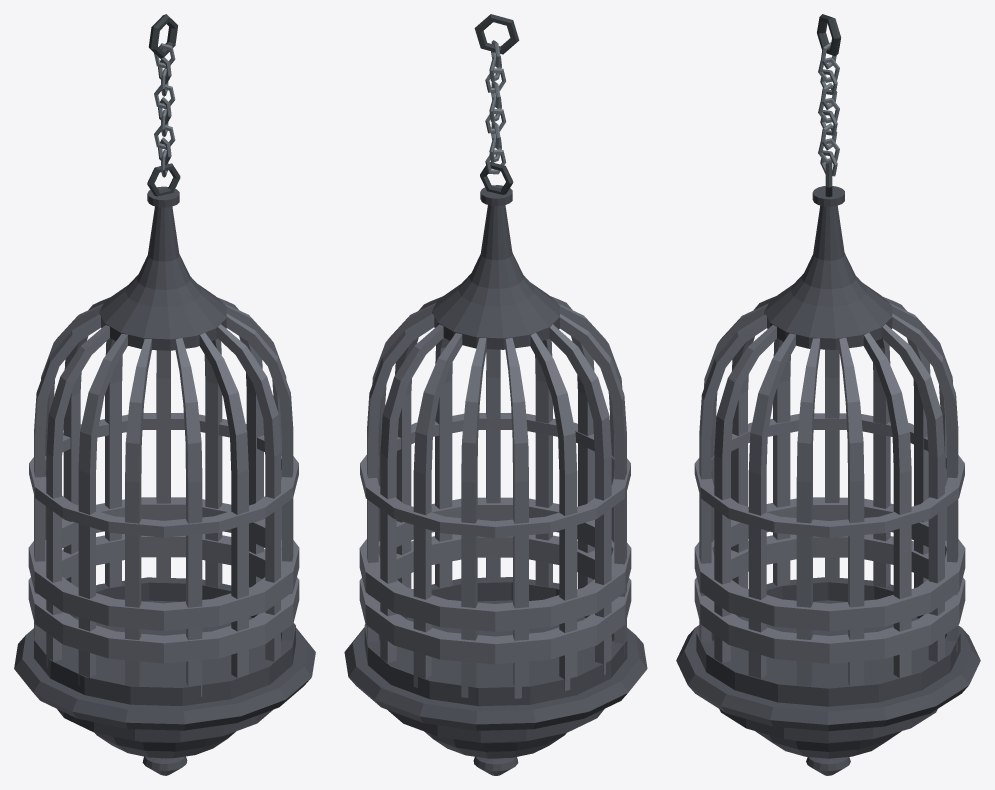
The model's file is WF_LP_HT_Props_BirdBox.fbx.
3 views of the same model, side by side, from view 1: azimuth 30°, elevation 25°; view 2: azimuth 150°, elevation 25°; view 3: azimuth 270°, elevation 25° (orthographic).
Parts seen in each view (by area): view 1: WF_LP_HT_Props_BirdBox; view 2: WF_LP_HT_Props_BirdBox; view 3: WF_LP_HT_Props_BirdBox.
Boxes of the visible parts, <box> form: WF_LP_HT_Props_BirdBox: <box>14,14,315,775</box>; WF_LP_HT_Props_BirdBox: <box>344,14,647,775</box>; WF_LP_HT_Props_BirdBox: <box>676,14,980,775</box>.
Bounding box in the file's own units: 0.4719 × 1.3 × 0.4719.
